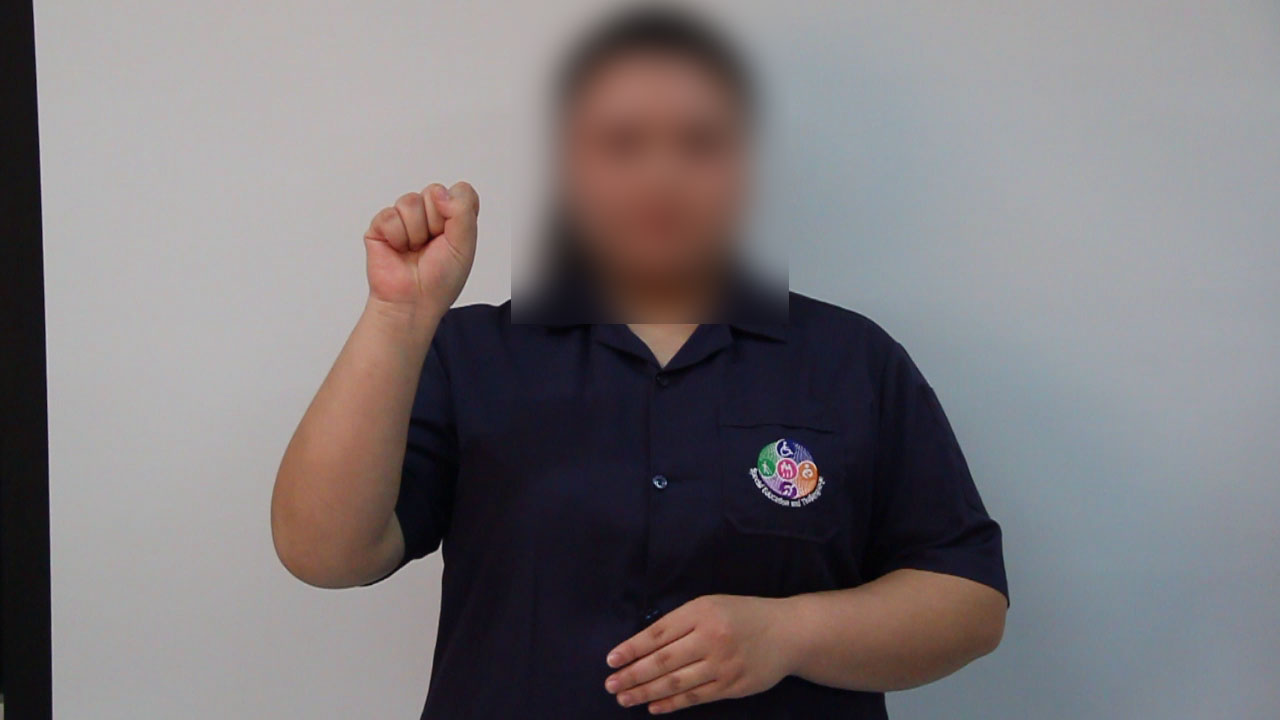sor: (347, 169, 497, 329)
